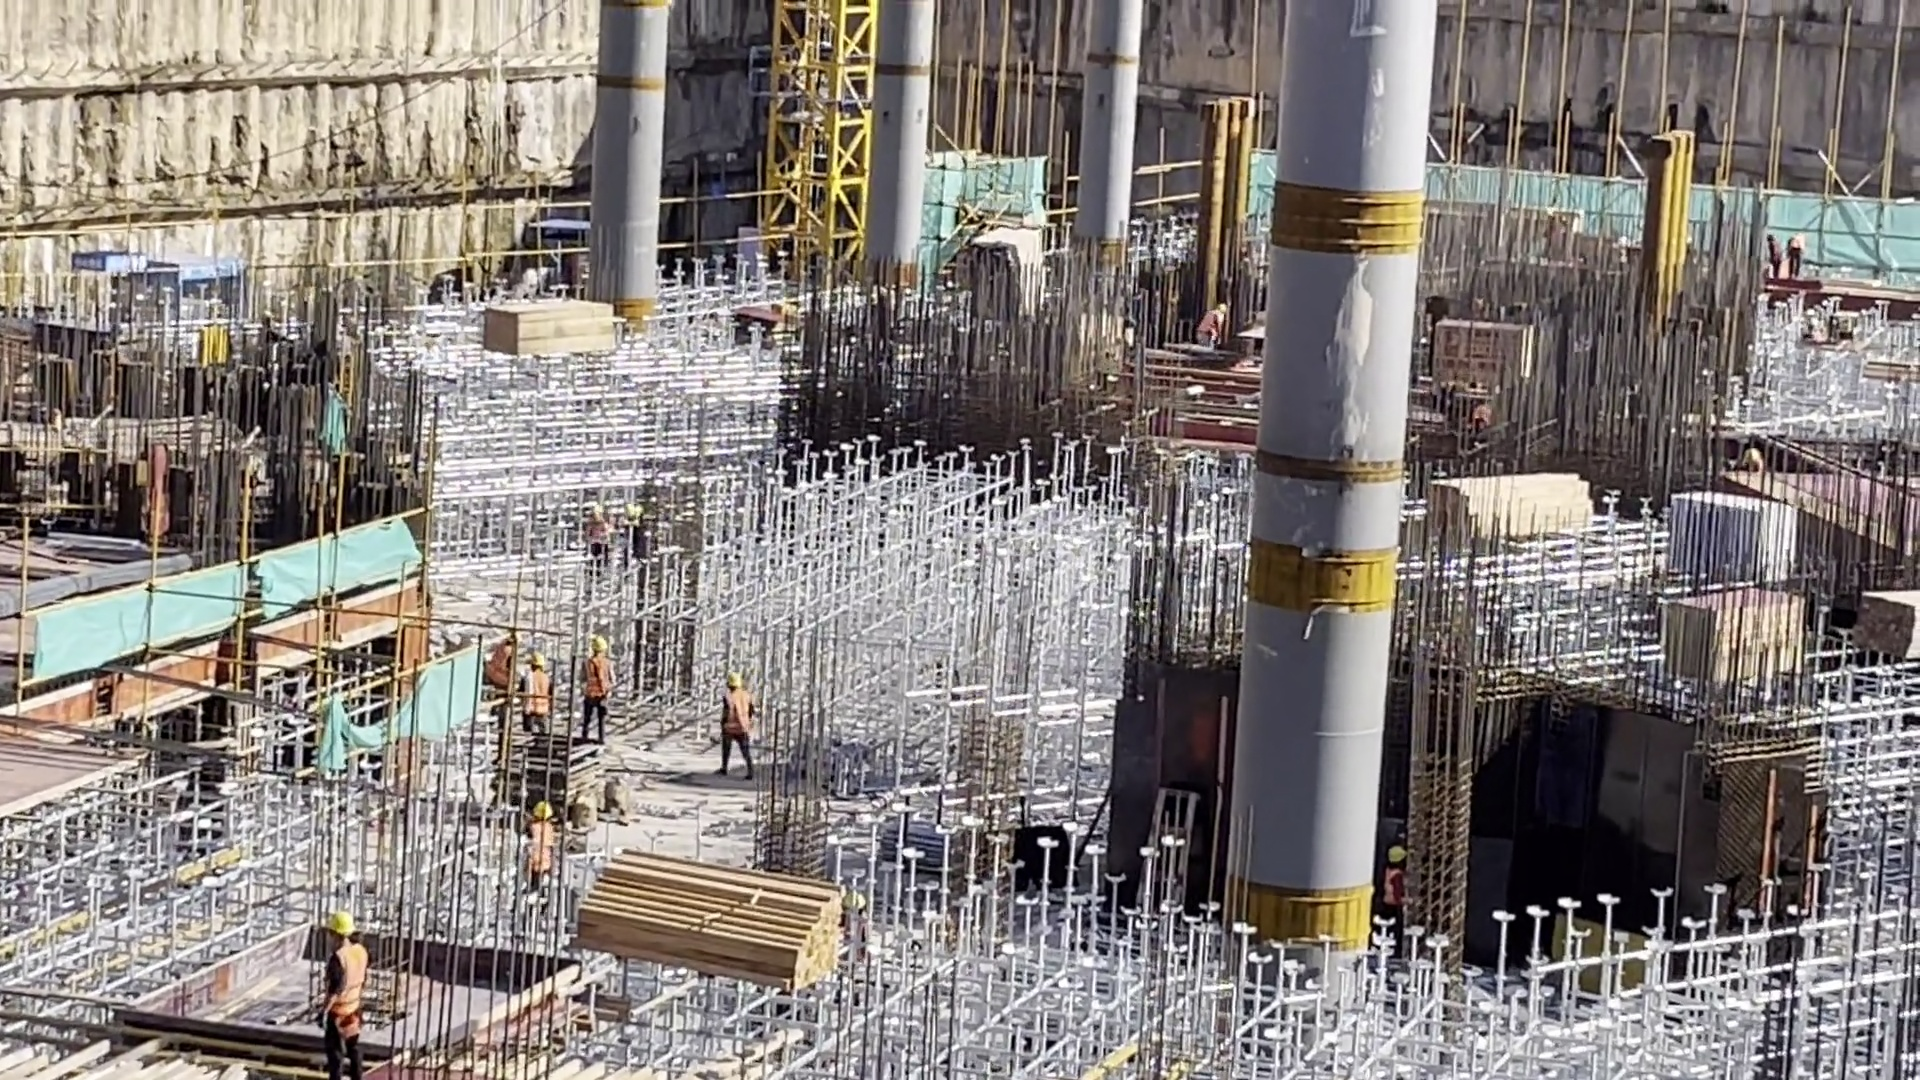board: (1665, 585, 1805, 684)
helmet: (326, 910, 359, 938), (587, 637, 610, 650), (527, 650, 545, 667), (1387, 846, 1406, 863), (723, 673, 744, 686)
person: (321, 907, 369, 1080), (580, 634, 614, 747), (720, 672, 754, 780), (526, 803, 555, 902), (483, 636, 523, 695), (1382, 844, 1407, 919), (523, 648, 550, 719), (582, 503, 611, 563), (1197, 303, 1227, 349), (1788, 227, 1806, 281), (1768, 231, 1782, 277), (1739, 450, 1762, 470)
vest: (328, 944, 366, 1035), (583, 659, 615, 699), (524, 671, 550, 714), (726, 690, 749, 736), (1384, 870, 1404, 912)
wood: (573, 846, 844, 998), (1424, 472, 1594, 538), (484, 298, 617, 360), (1855, 590, 1918, 655), (1860, 360, 1919, 382)
